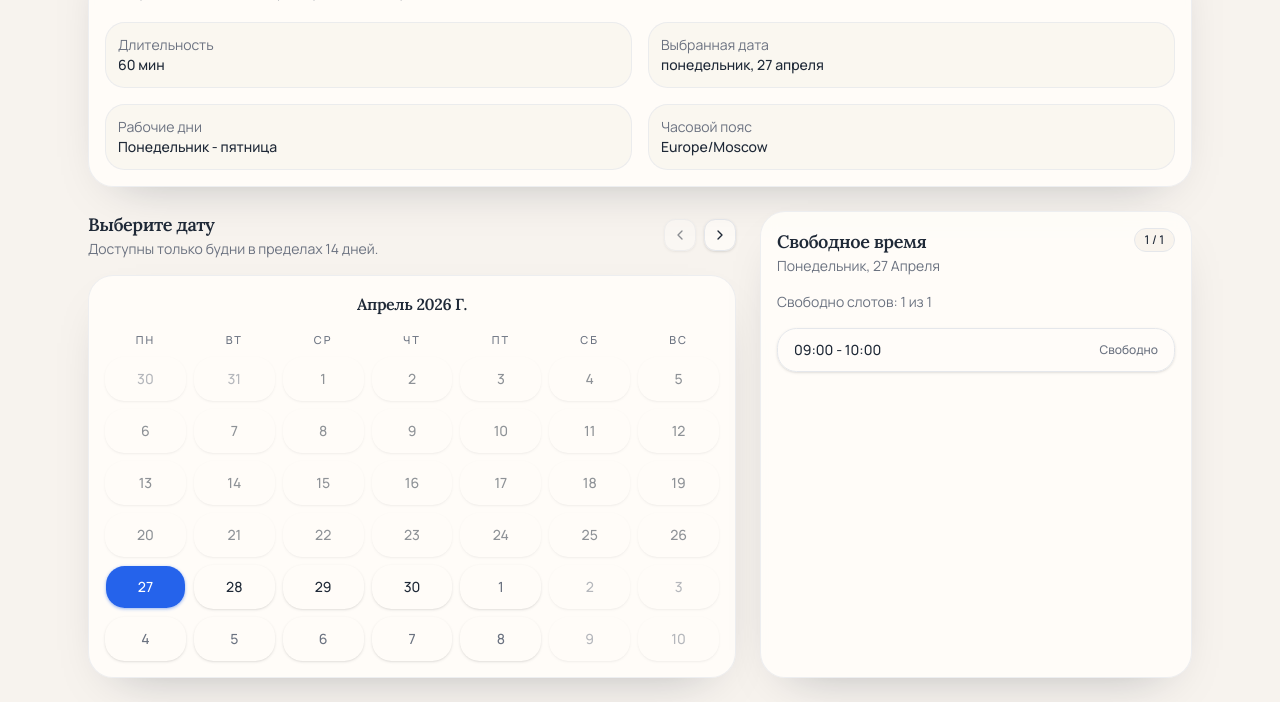
Scenario: error handling integration › shows conflict message for taken slots
(page scrolled)
Step 1. Click the button with aria-label "выбрать слот 09:00 - 10:00" → (838, 350), box [777,328,1175,372]
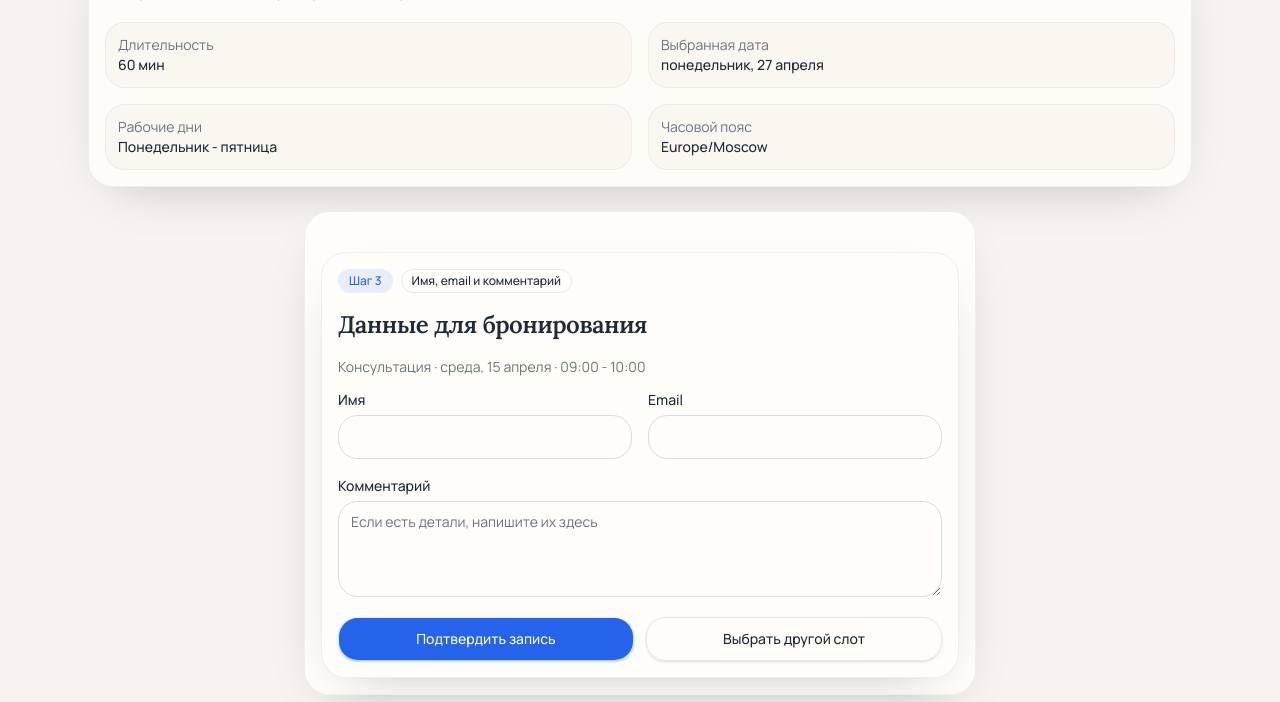
Step 2. Type "Иван Петров" into the field labelled "Имя" → (485, 437), box [338,415,632,459]
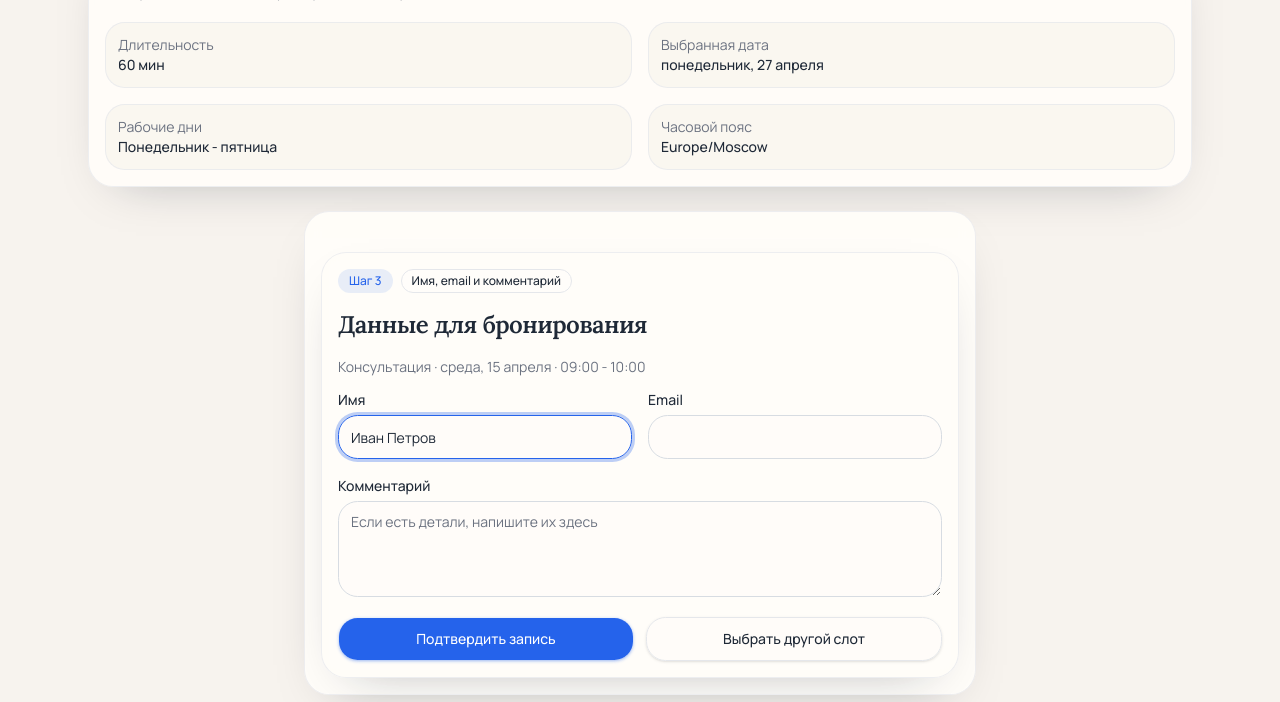
Step 3. Type "ivan@example.com" into the field labelled "Email" → (795, 437), box [648,415,942,459]
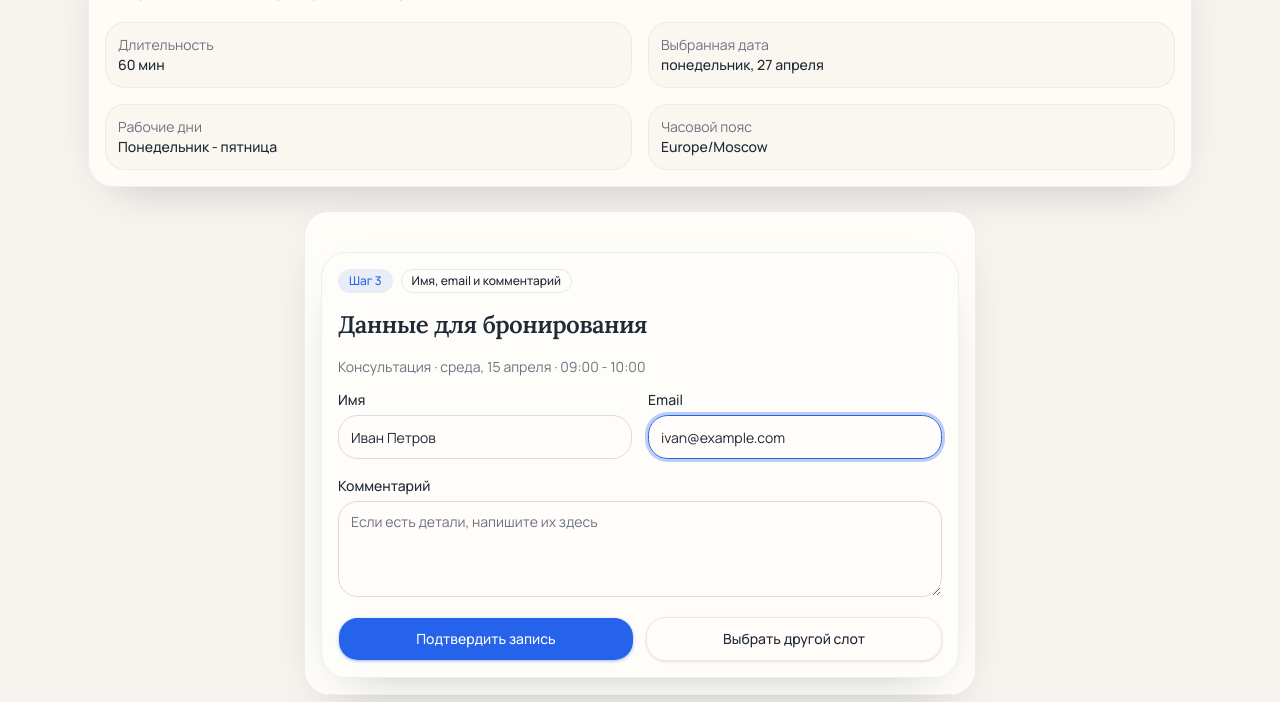
Step 4. Click the button "Подтвердить запись" → (486, 639), box [338,617,634,661]
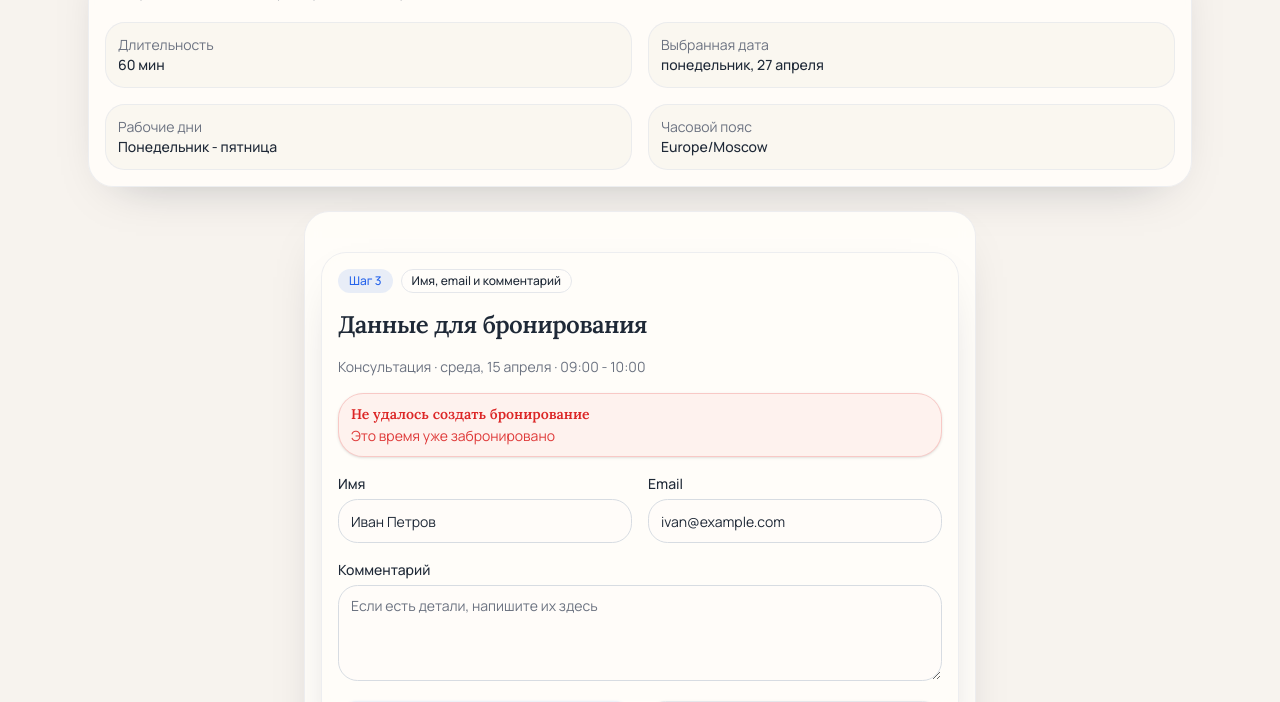
Expected: the text "Это время уже забронировано" is shown, [351,426,555,445]
